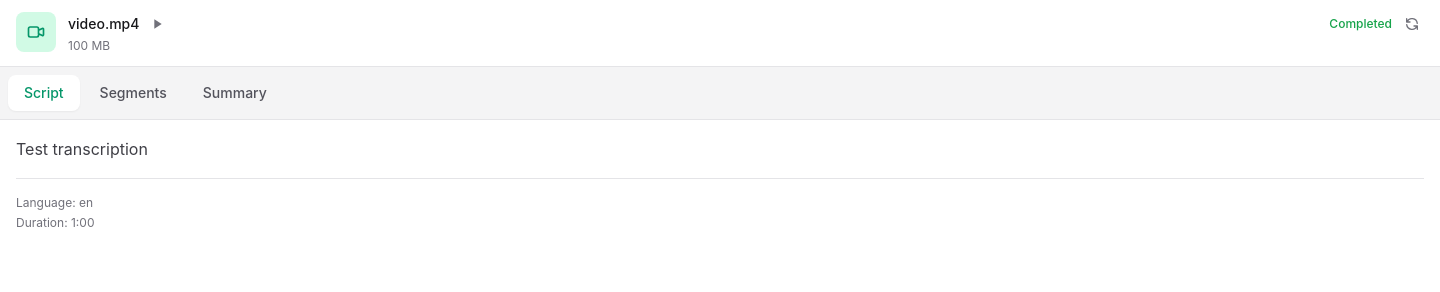
Inspector › Summary tab › displays summary text when completed
The width and height of the screenshot is (1440, 292).
Click on Summary tab
Click the tab "Summary".
click(235, 93)  # box left=187, top=75, right=283, bottom=111
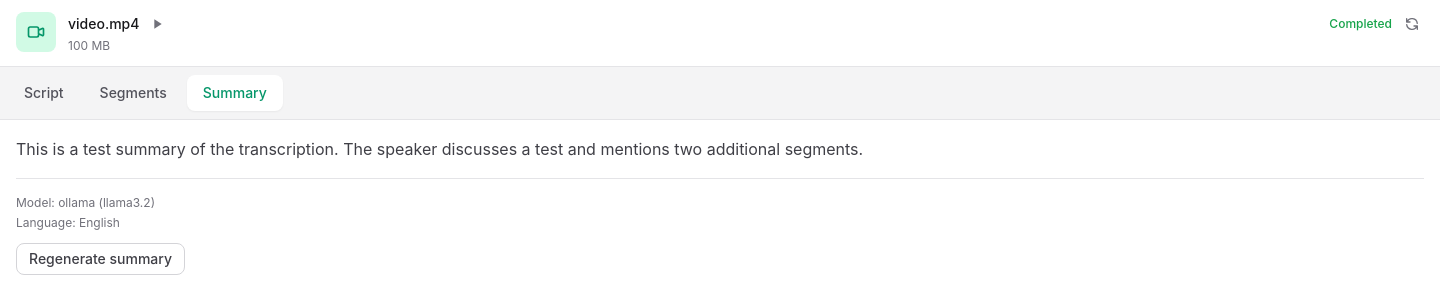
expect the text "This is a test summary of the transcription. The speaker discusses a test and mentions two additional segments." is shown: met, box left=16, top=139, right=863, bottom=159
